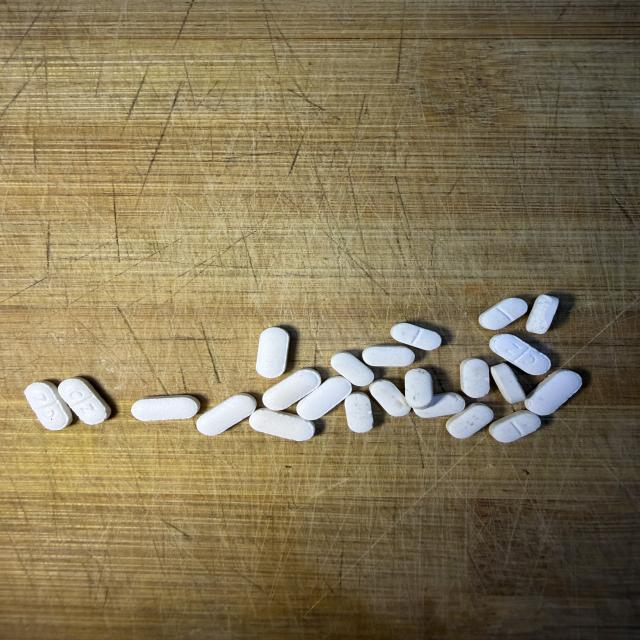pill: (525, 370, 582, 415), (262, 368, 321, 411), (58, 378, 111, 425), (197, 393, 256, 435), (490, 334, 550, 375), (297, 376, 351, 420), (24, 381, 72, 430), (250, 408, 314, 441), (131, 395, 199, 421), (256, 327, 289, 378), (446, 403, 493, 438), (489, 411, 540, 442), (369, 379, 411, 416), (479, 298, 527, 329), (331, 352, 373, 386), (491, 364, 525, 404), (391, 323, 441, 350), (414, 393, 465, 418), (526, 295, 558, 333), (460, 358, 489, 397), (345, 392, 373, 432), (405, 369, 433, 409), (363, 346, 414, 366)
